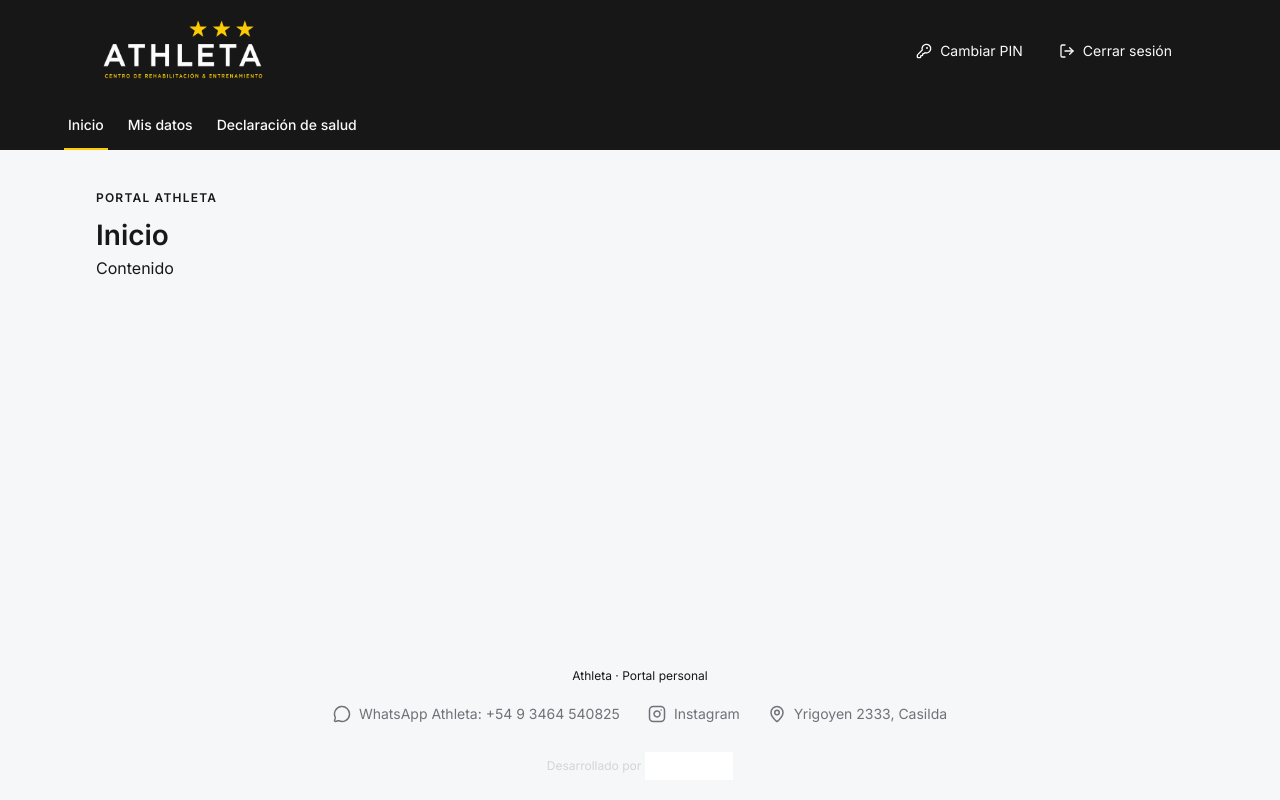
Scenario: uses the current Portal first name and discards it as soon as logout starts
The image size is (1280, 800).
Click the button "Cerrar sesión": (1115,51) [1047,29,1184,73]
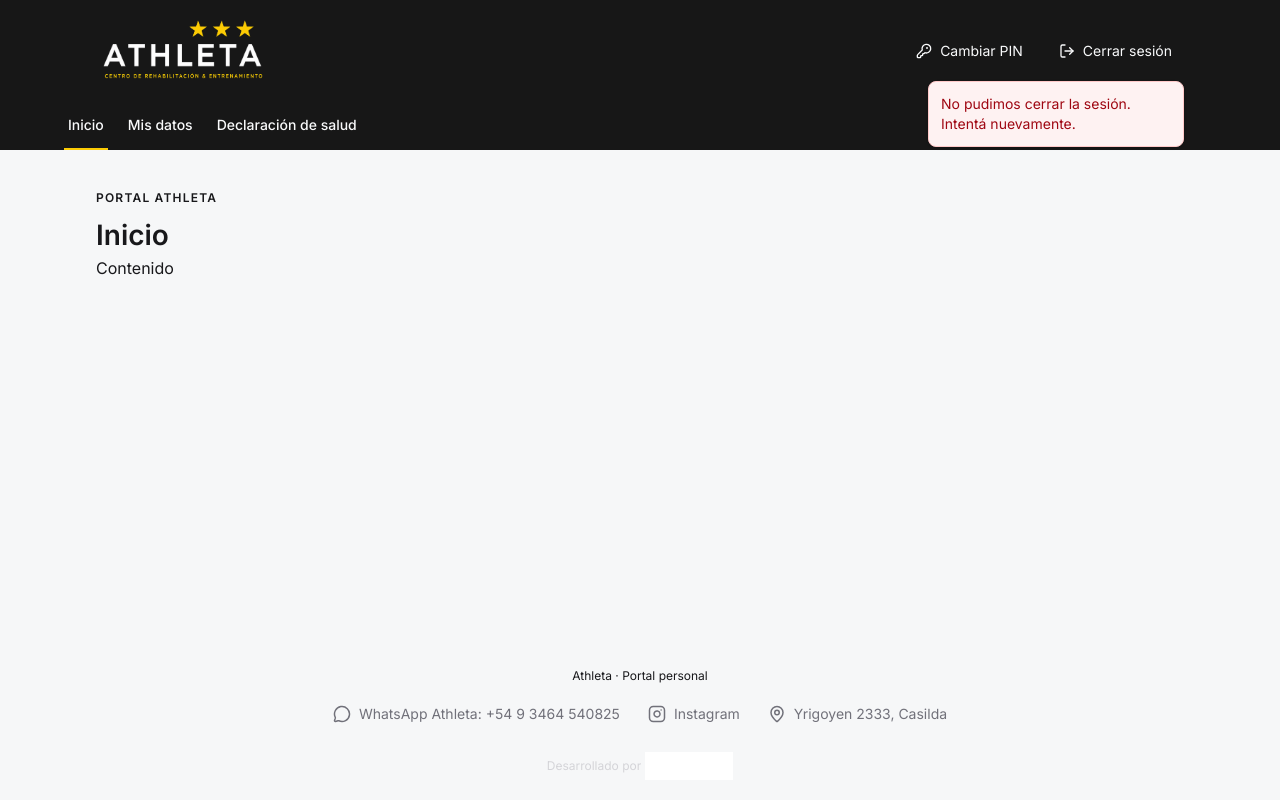
expect the message "No pudimos cerrar la sesión. Intentá nuevamente." is shown: met, box [928,81,1184,147]
